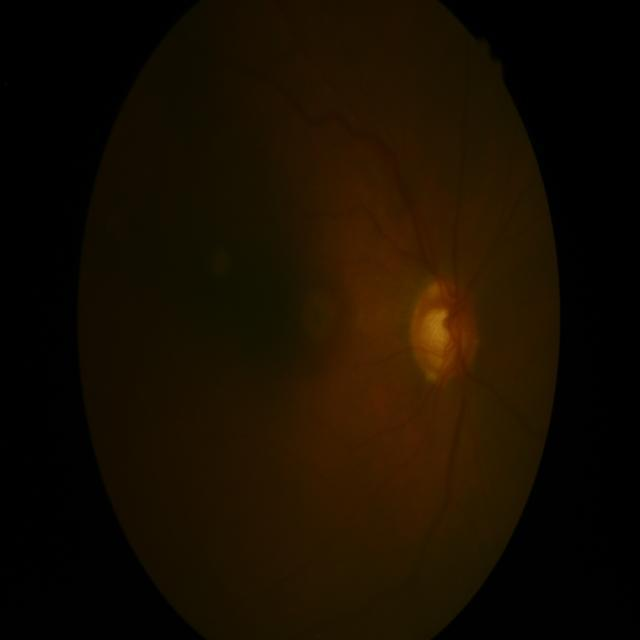cup: (423, 308, 461, 370)
disk: (411, 280, 480, 388)
